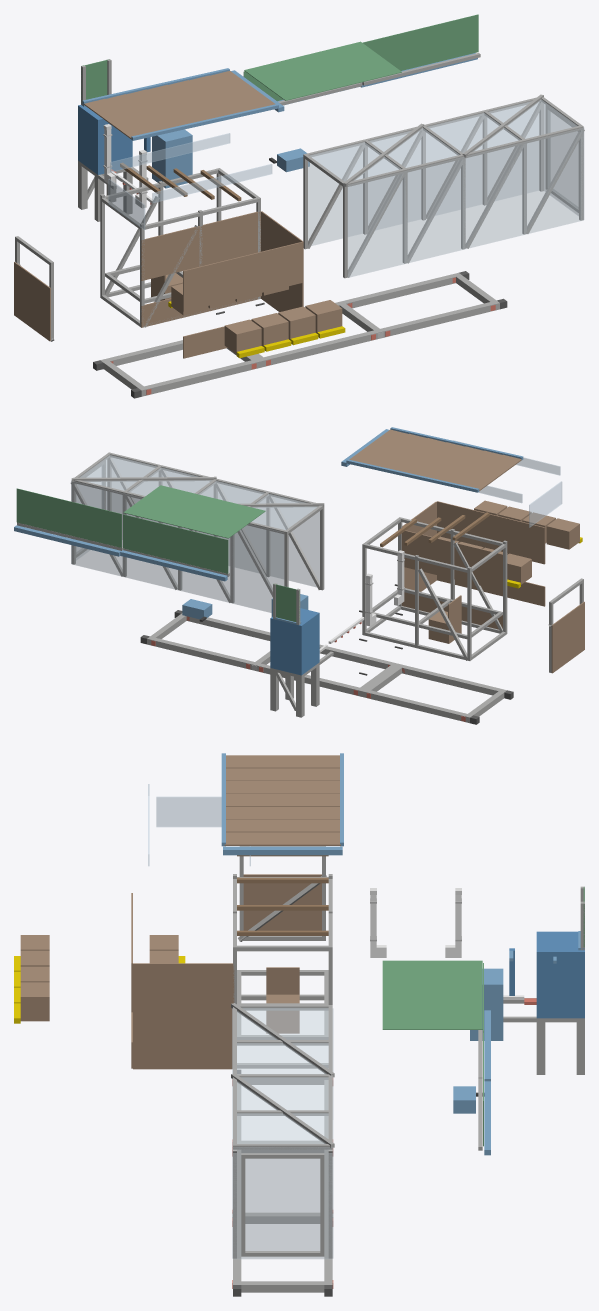
The model's file is gallinero_explosivo.gltf.
The picture shows the model from 3 angles, top to bottom: view 1: azimuth 30°, elevation 25°; view 2: azimuth 150°, elevation 25°; view 3: azimuth 270°, elevation 25°; orthographic projection. The views are drawn at different scales.
Parts seen in each view (by area): view 1: Corral__malla_gallinero, Corral__gris_plastimadera, Forro__cafe_plastimadera, Niebla__arpilla_verde, Base__gris_plastimadera, Techo__cafe_plastimadera, Estructura__gris_plastimadera, Nidos__cafe_plastimadera, Ventilación__malla_vent, Agua__tambo_azul, Puertas__cafe_plastimadera, Agua__gris_plastimadera (+9 smaller); view 2: Corral__malla_gallinero, Niebla__arpilla_verde, Forro__cafe_plastimadera, Corral__gris_plastimadera, Estructura__gris_plastimadera, Base__gris_plastimadera, Techo__cafe_plastimadera, Agua__tambo_azul, Nidos__cafe_plastimadera, Puertas__cafe_plastimadera, Niebla__pvc_azul, Agua__gris_plastimadera (+7 smaller); view 3: Corral__malla_gallinero, Forro__cafe_plastimadera, Techo__cafe_plastimadera, Corral__gris_plastimadera, Niebla__arpilla_verde, Puertas__cafe_plastimadera, Base__gris_plastimadera, Agua__tambo_azul, Estructura__gris_plastimadera, Nidos__cafe_plastimadera, Ventilación__malla_vent, Techo__pvc_azul (+6 smaller).
Boxes of the visible parts, x1,y1,x2,y2 form: Corral__malla_gallinero: [308, 99, 584, 277]; Corral__gris_plastimadera: [303, 94, 584, 278]; Forro__cafe_plastimadera: [141, 211, 303, 358]; Niebla__arpilla_verde: [243, 14, 478, 101]; Base__gris_plastimadera: [100, 273, 499, 396]; Techo__cafe_plastimadera: [84, 71, 275, 138]; Estructura__gris_plastimadera: [100, 168, 260, 327]; Nidos__cafe_plastimadera: [171, 283, 342, 353]; Ventilación__malla_vent: [108, 133, 272, 229]; Agua__tambo_azul: [78, 105, 150, 174]; Puertas__cafe_plastimadera: [14, 262, 182, 341]; Agua__gris_plastimadera: [78, 59, 148, 221]; Corral__malla_gallinero: [71, 455, 319, 612]; Niebla__arpilla_verde: [16, 485, 265, 573]; Forro__cafe_plastimadera: [401, 501, 545, 629]; Corral__gris_plastimadera: [70, 452, 324, 603]; Estructura__gris_plastimadera: [362, 517, 507, 660]; Base__gris_plastimadera: [147, 613, 506, 723]; Techo__cafe_plastimadera: [349, 429, 521, 490]; Agua__tambo_azul: [270, 608, 319, 675]; Nidos__cafe_plastimadera: [438, 500, 579, 584]; Puertas__cafe_plastimadera: [428, 595, 584, 673]; Niebla__pvc_azul: [14, 525, 227, 619]; Agua__gris_plastimadera: [270, 583, 333, 717]; Corral__malla_gallinero: [232, 1008, 333, 1259]; Forro__cafe_plastimadera: [131, 893, 234, 1069]; Techo__cafe_plastimadera: [224, 755, 340, 845]; Corral__gris_plastimadera: [231, 1003, 334, 1258]; Niebla__arpilla_verde: [382, 960, 483, 1146]; Puertas__cafe_plastimadera: [243, 874, 321, 1033]; Base__gris_plastimadera: [233, 1074, 332, 1292]; Agua__tambo_azul: [509, 931, 584, 1018]; Estructura__gris_plastimadera: [233, 874, 332, 1068]; Nidos__cafe_plastimadera: [20, 935, 178, 1021]; Ventilación__malla_vent: [148, 784, 250, 866]; Techo__pvc_azul: [221, 753, 343, 855].
Bounding box in the file's own units: 8.94 × 4.25 × 6.86.
